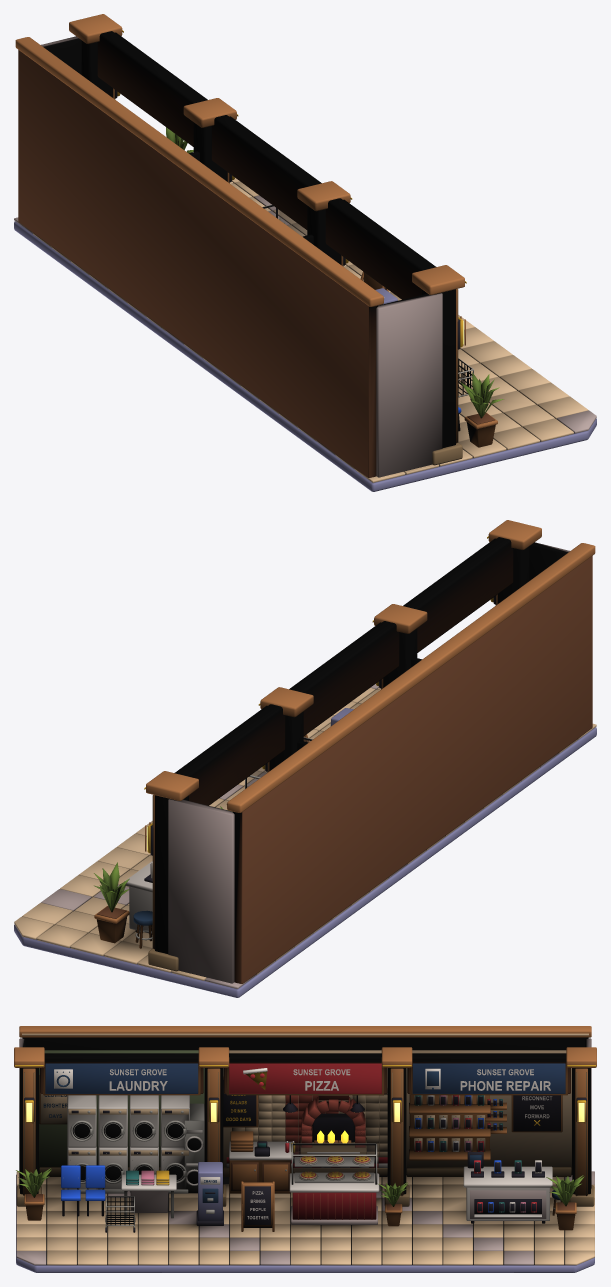
The picture shows the model from 3 angles, top to bottom: view 1: azimuth 30°, elevation 25°; view 2: azimuth 150°, elevation 25°; view 3: azimuth 270°, elevation 25°; orthographic projection. The views are drawn at different scales.
Parts seen in each view (by area): view 1: interior_pal_leatherShadow, interior_pal_woodWarm, interior_pal_sidewalk, interior_pal_canvasTan, interior_pal_lavenderShadow, interior_pal_khakiSeam, interior_pal_foliage; view 2: interior_pal_leatherShadow, interior_pal_woodWarm, interior_pal_sidewalk, interior_pal_canvasTan, interior_pal_lavenderShadow, interior_pal_picketWhite, interior_pal_khakiSeam; view 3: interior_pal_canvasTan, interior_pal_woodWarm, interior_pal_leatherShadow, interior_pal_picketWhite, interior_pal_uiDark, interior_pal_denimBlue, interior_pal_survivorRed, interior_pal_lavenderShadow, interior_pal_sidewalk, interior_pal_silver, interior_pal_khakiSeam, interior_pal_brick (+10 smaller).
Boxes of the visible parts, box(x1,y1,x2,y2) form: interior_pal_leatherShadow: box(18, 31, 495, 477); interior_pal_woodWarm: box(15, 14, 497, 447); interior_pal_sidewalk: box(14, 36, 596, 477); interior_pal_canvasTan: box(33, 178, 588, 482); interior_pal_lavenderShadow: box(14, 221, 596, 491); interior_pal_khakiSeam: box(114, 90, 462, 465); interior_pal_foliage: box(175, 134, 503, 416); interior_pal_leatherShadow: box(97, 537, 592, 983); interior_pal_woodWarm: box(94, 520, 595, 949); interior_pal_sidewalk: box(41, 542, 569, 988); interior_pal_canvasTan: box(14, 687, 596, 980); interior_pal_lavenderShadow: box(14, 708, 596, 997); interior_pal_picketWhite: box(124, 722, 330, 933); interior_pal_khakiSeam: box(148, 596, 496, 971); interior_pal_canvasTan: box(16, 1033, 594, 1265); interior_pal_woodWarm: box(14, 1026, 596, 1231); interior_pal_leatherShadow: box(20, 1037, 590, 1210); interior_pal_picketWhite: box(54, 1068, 552, 1220); interior_pal_uiDark: box(24, 1080, 586, 1232); interior_pal_denimBlue: box(45, 1063, 565, 1093); interior_pal_survivorRed: box(226, 1063, 536, 1219); interior_pal_lavenderShadow: box(16, 1162, 594, 1272); interior_pal_sidewalk: box(16, 1038, 594, 1265); interior_pal_silver: box(62, 1096, 555, 1227); interior_pal_khakiSeam: box(16, 1072, 594, 1206); interior_pal_brick: box(285, 1095, 372, 1219).
Size of the model in its own units: 5.11 by 3.99 by 13.49.
